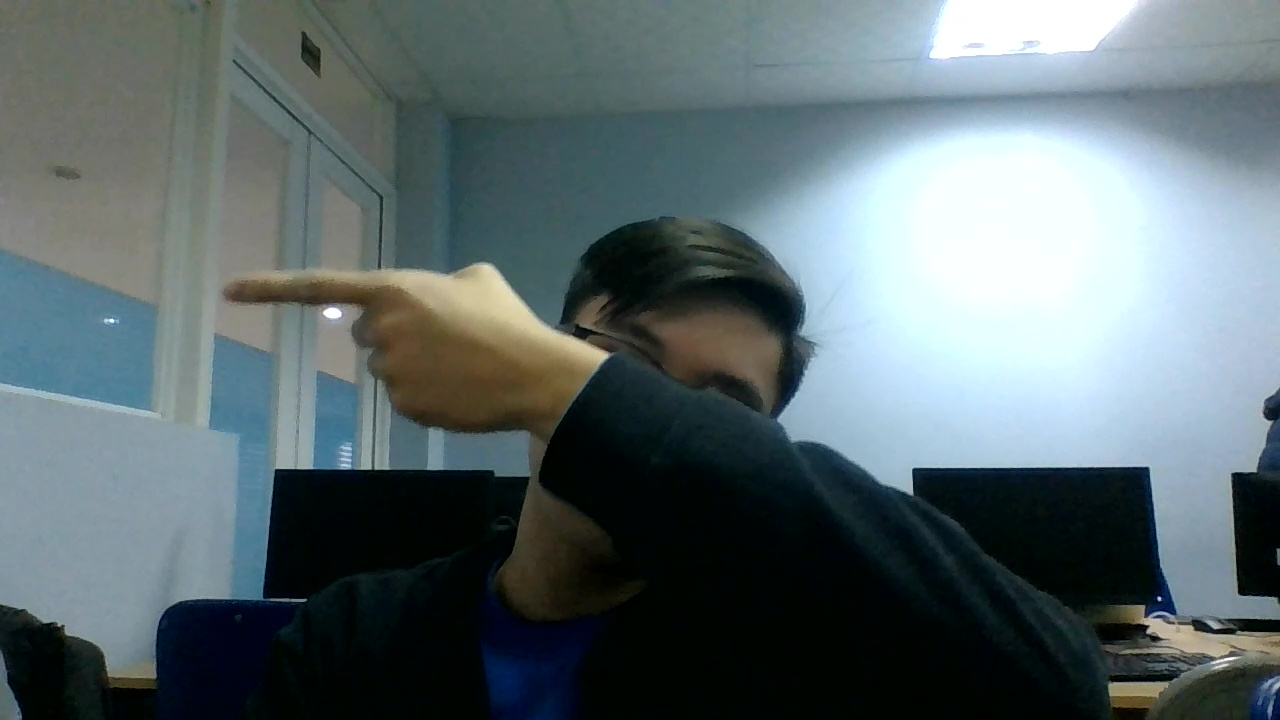right: (221, 260, 526, 454)
